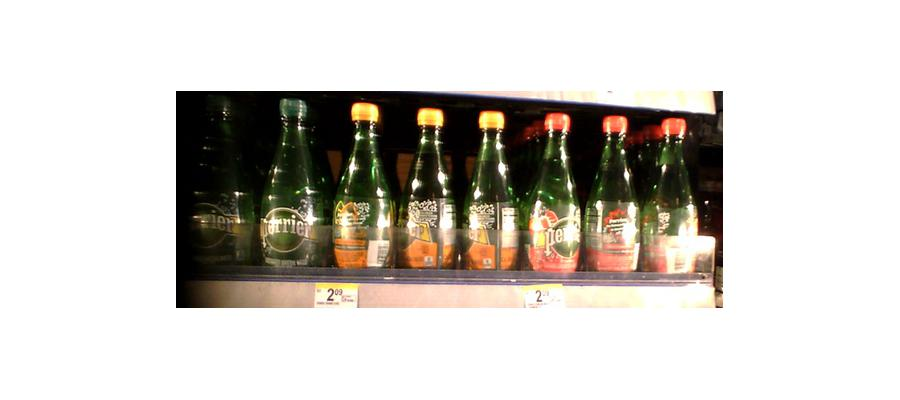bottle: (259, 92, 327, 274), (191, 96, 256, 271), (331, 98, 393, 279), (399, 104, 456, 276), (526, 107, 582, 282), (463, 109, 521, 274), (642, 117, 700, 278), (586, 113, 641, 277)
